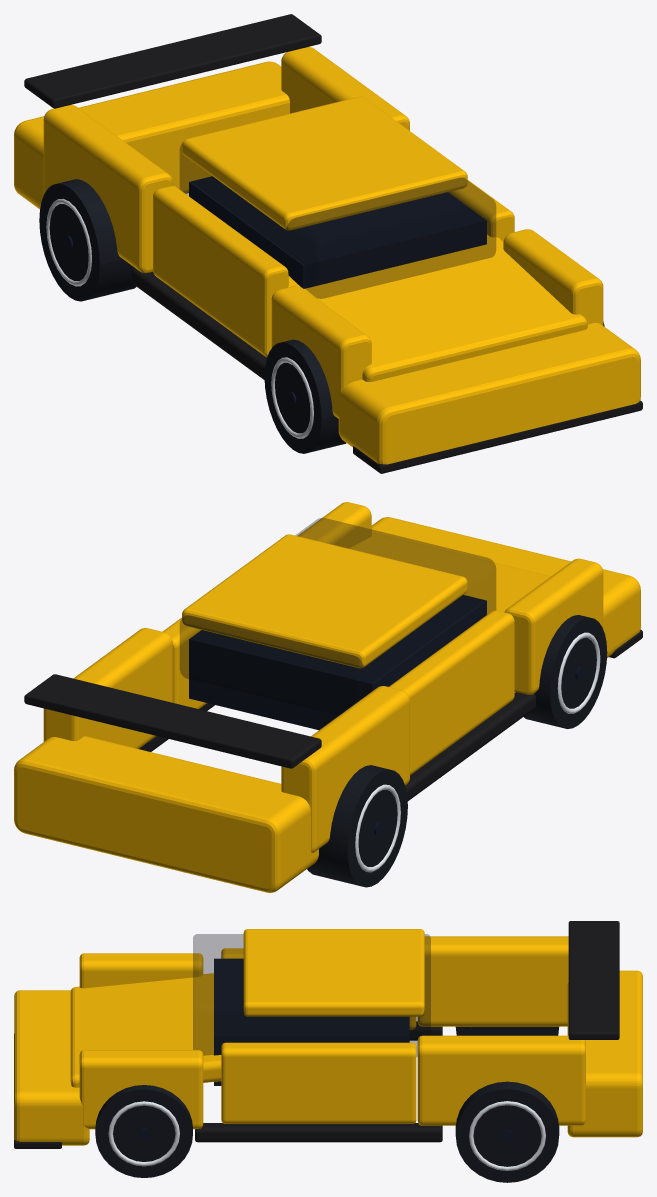
File: supercar-gt.glb
3 views of the same model, one above another, from view 1: azimuth 30°, elevation 25°; view 2: azimuth 150°, elevation 25°; view 3: azimuth 270°, elevation 25° (orthographic). The views are drawn at different scales.
Visible parts, largest first — view 1: body_bumper_front, body_roof, body_bonnet, glass_canopy, object 1, body_bumper_rear, body_door_left, body_spoiler, body_quarter_rear_left, wheel_tire_rl, body_fender_front_left, wheel_tire_fl (+7 smaller); view 2: body_bumper_rear, body_roof, glass_canopy, object 1, body_door_left, body_spoiler, body_quarter_rear_left, wheel_tire_rl, body_quarter_rear_right, body_fender_front_left, body_bumper_front, wheel_tire_fl (+6 smaller); view 3: body_door_right, body_roof, body_quarter_rear_left, body_quarter_rear_right, body_bonnet, glass_canopy, body_bumper_front, body_bumper_rear, wheel_tire_rr, object 1, wheel_tire_fr, body_fender_front_right (+7 smaller).
Part boxes in pixels (x1=…): body_bumper_front: x1=338, y1=323, x2=640, y2=464; body_roof: x1=182, y1=96, x2=467, y2=230; body_bonnet: x1=288, y1=234, x2=587, y2=382; glass_canopy: x1=180, y1=144, x2=495, y2=298; object 1: x1=189, y1=176, x2=486, y2=288; body_bumper_rear: x1=14, y1=61, x2=289, y2=209; body_door_left: x1=153, y1=186, x2=288, y2=356; body_spoiler: x1=24, y1=14, x2=321, y2=108; body_quarter_rear_left: x1=43, y1=104, x2=172, y2=273; wheel_tire_rl: x1=39, y1=179, x2=136, y2=301; body_fender_front_left: x1=271, y1=285, x2=371, y2=418; wheel_tire_fl: x1=264, y1=339, x2=346, y2=453; body_bumper_rear: x1=14, y1=736, x2=318, y2=892; body_roof: x1=182, y1=534, x2=467, y2=668; glass_canopy: x1=180, y1=518, x2=495, y2=715; object 1: x1=189, y1=595, x2=486, y2=730; body_door_left: x1=389, y1=610, x2=514, y2=775; body_spoiler: x1=24, y1=674, x2=321, y2=768; body_quarter_rear_left: x1=281, y1=686, x2=409, y2=852; wheel_tire_rl: x1=307, y1=765, x2=407, y2=887; body_quarter_rear_right: x1=43, y1=628, x2=172, y2=748; body_fender_front_left: x1=504, y1=558, x2=603, y2=694; body_bumper_front: x1=371, y1=517, x2=640, y2=657; wheel_tire_fl: x1=524, y1=615, x2=607, y2=728; body_door_right: x1=221, y1=1042, x2=416, y2=1123; body_roof: x1=243, y1=929, x2=424, y2=1016; body_quarter_rear_left: x1=417, y1=936, x2=568, y2=1026; body_quarter_rear_right: x1=417, y1=1035, x2=585, y2=1125; body_bonnet: x1=70, y1=973, x2=221, y2=1087; glass_canopy: x1=193, y1=934, x2=430, y2=1056; body_bumper_front: x1=14, y1=990, x2=89, y2=1145; body_bumper_rear: x1=567, y1=970, x2=642, y2=1137; wheel_tire_rr: x1=455, y1=1081, x2=559, y2=1182; object 1: x1=214, y1=958, x2=409, y2=1085; wheel_tire_fr: x1=95, y1=1085, x2=192, y2=1177; body_fender_front_right: x1=79, y1=1050, x2=203, y2=1129.
Size of the model in its own units: 2.2 by 1.21 by 4.5.
